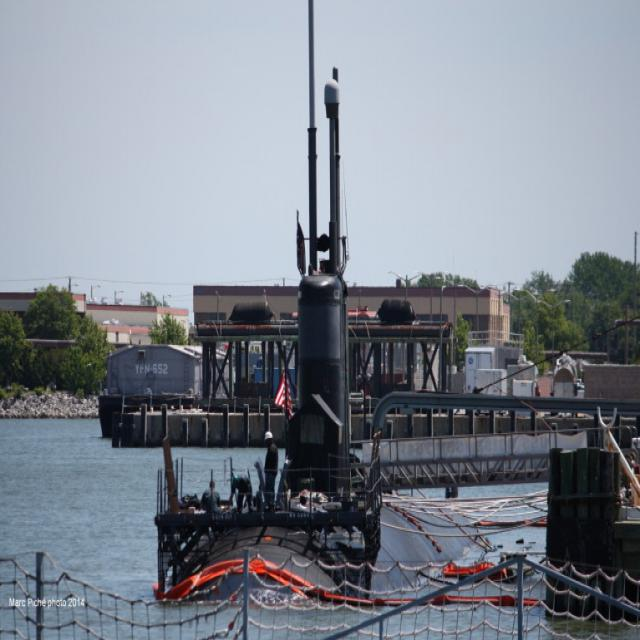submarine: (159, 1, 496, 605)
